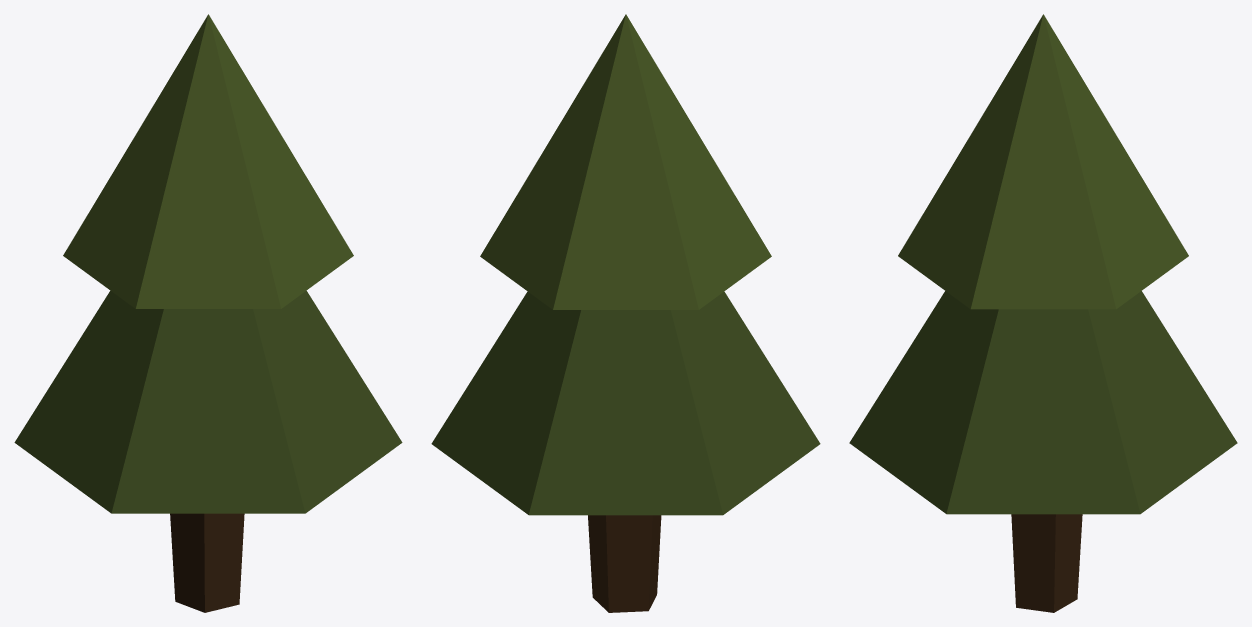
The model's file is res_tree.glb.
3 views of the same model, side by side, from view 1: azimuth 30°, elevation 25°; view 2: azimuth 150°, elevation 25°; view 3: azimuth 270°, elevation 25° (orthographic).
Visible parts, largest first — view 1: res_tree; view 2: res_tree; view 3: res_tree.
Part boxes in pixels (bbox=[...]): res_tree: bbox=[14, 14, 402, 612]; res_tree: bbox=[431, 14, 820, 612]; res_tree: bbox=[849, 14, 1237, 612].
Size of the model in its own units: 0.6928 by 1.33 by 0.8.
